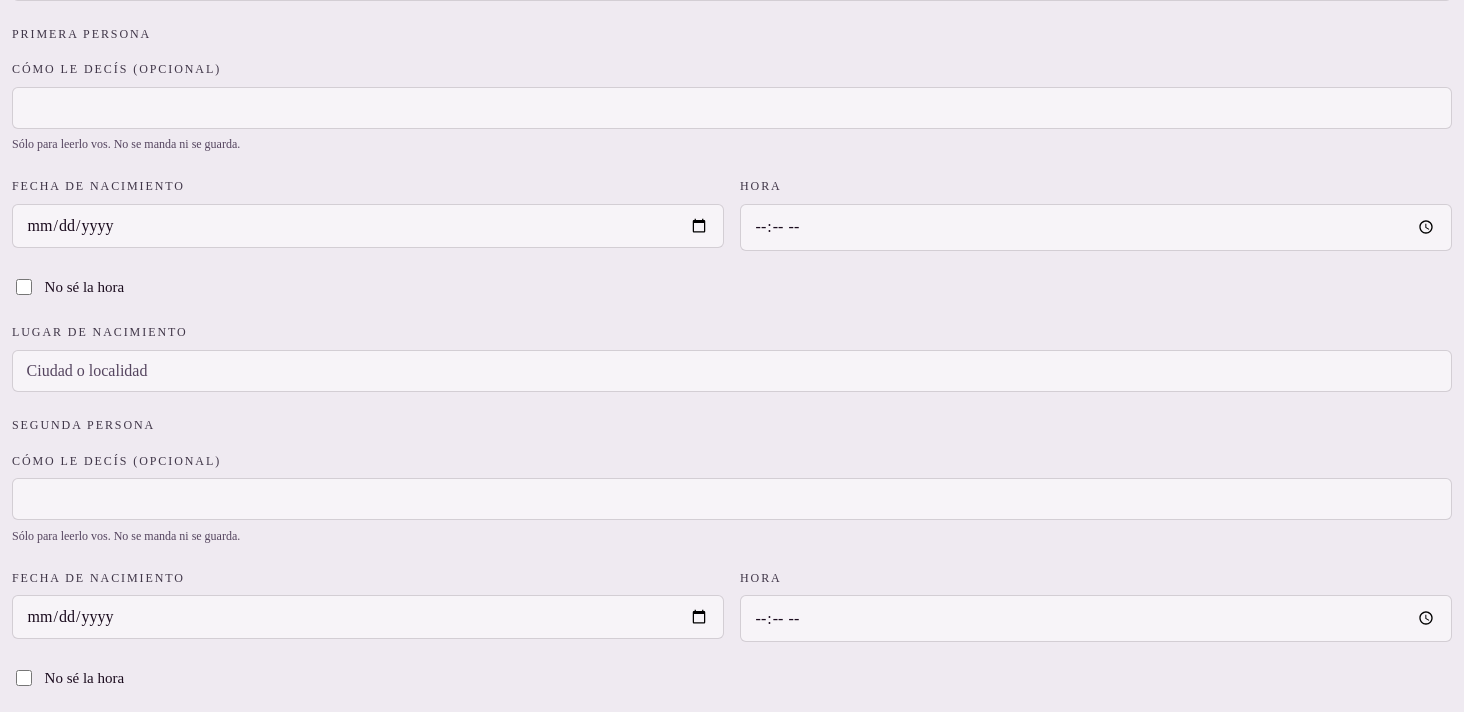
Test case: VinculoForm › misma persona: avisa y registra el motivo
In the date field labelled "Fecha de nacimiento" below "Primera persona": (368, 226) x1=12 y1=204 x2=724 y2=248, type "1976-05-31"
In the field labelled "Lugar de nacimiento": (732, 371) x1=12 y1=350 x2=1452 y2=392, type "rosario"
Wait 400 ms
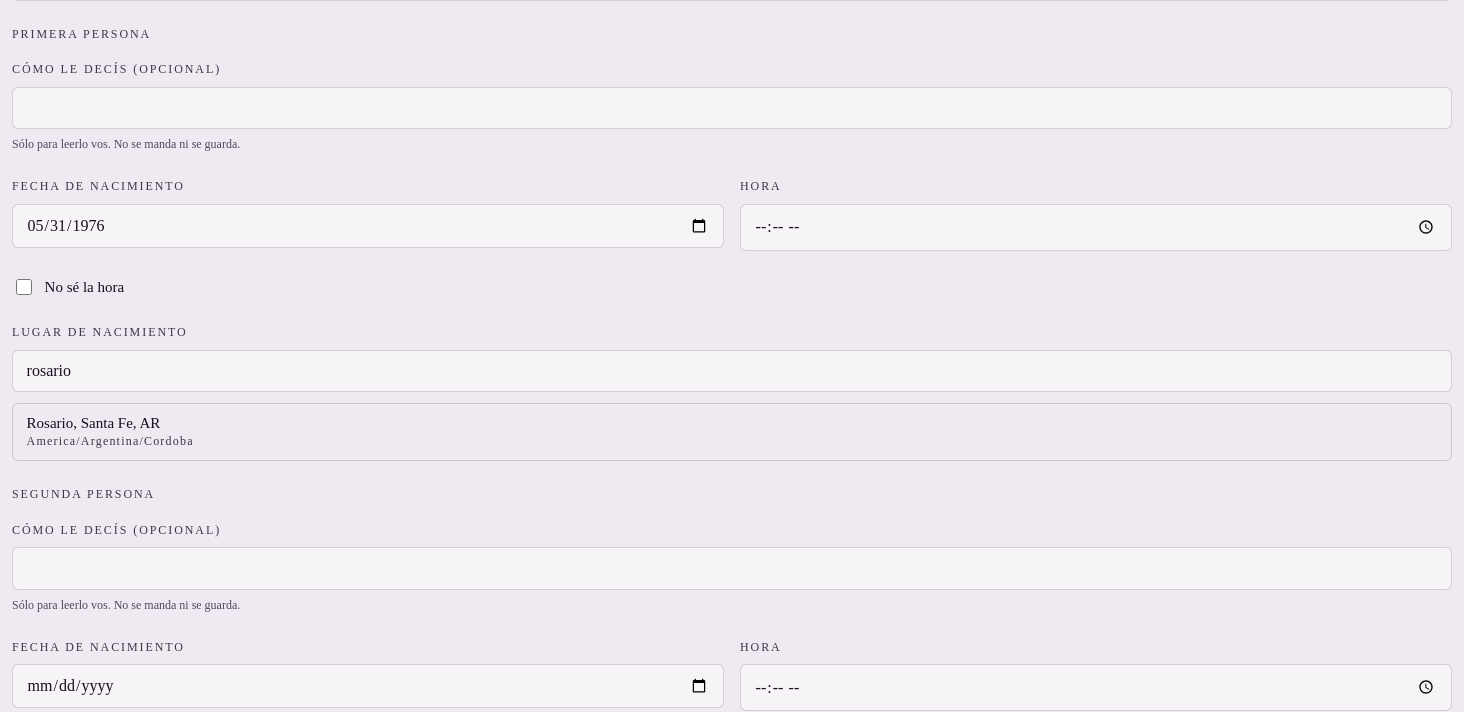
Click the button "Rosario, Santa Fe, AR America/Argentina/Cordoba": click(93, 423) x1=13 y1=404 x2=1451 y2=460
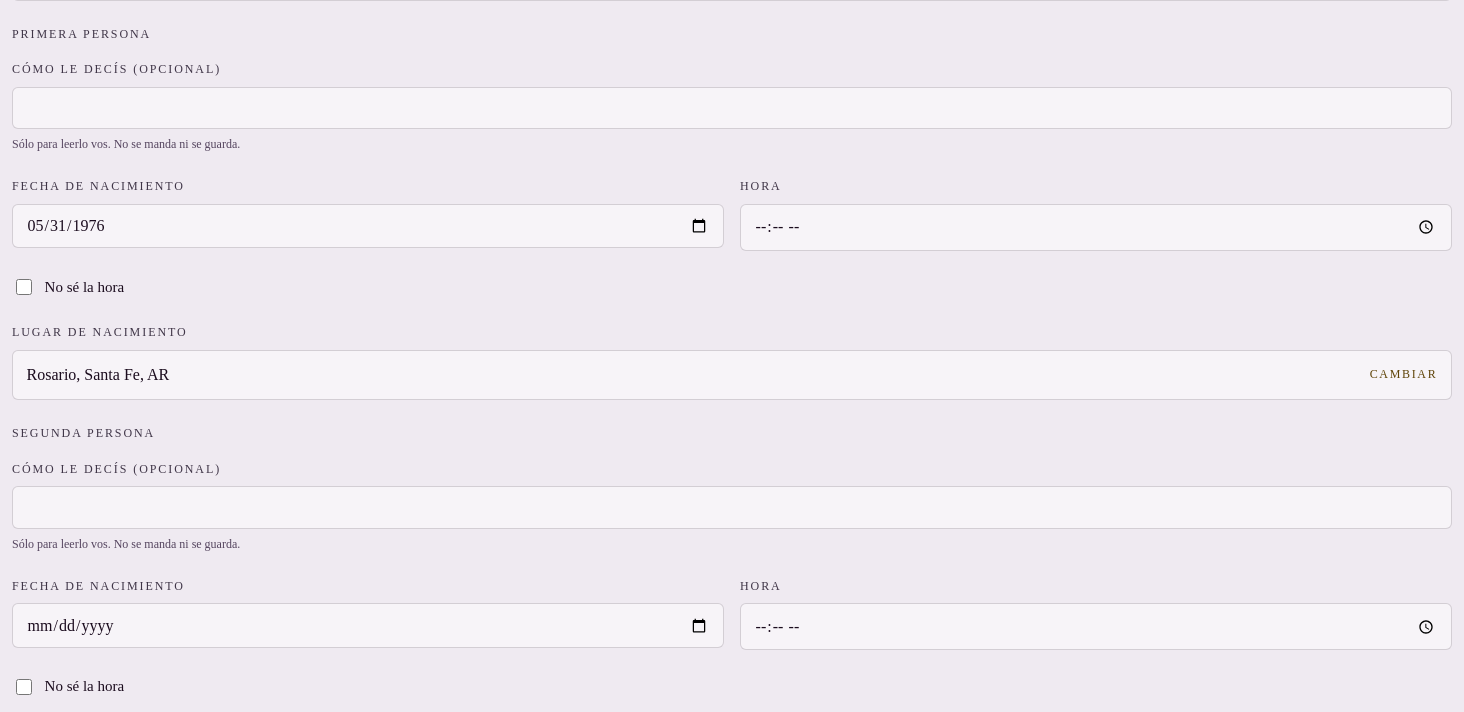
In the date field labelled "Fecha de nacimiento" below "Segunda persona": (368, 626) x1=12 y1=603 x2=724 y2=648, type "1976-05-31"
(page scrolled)
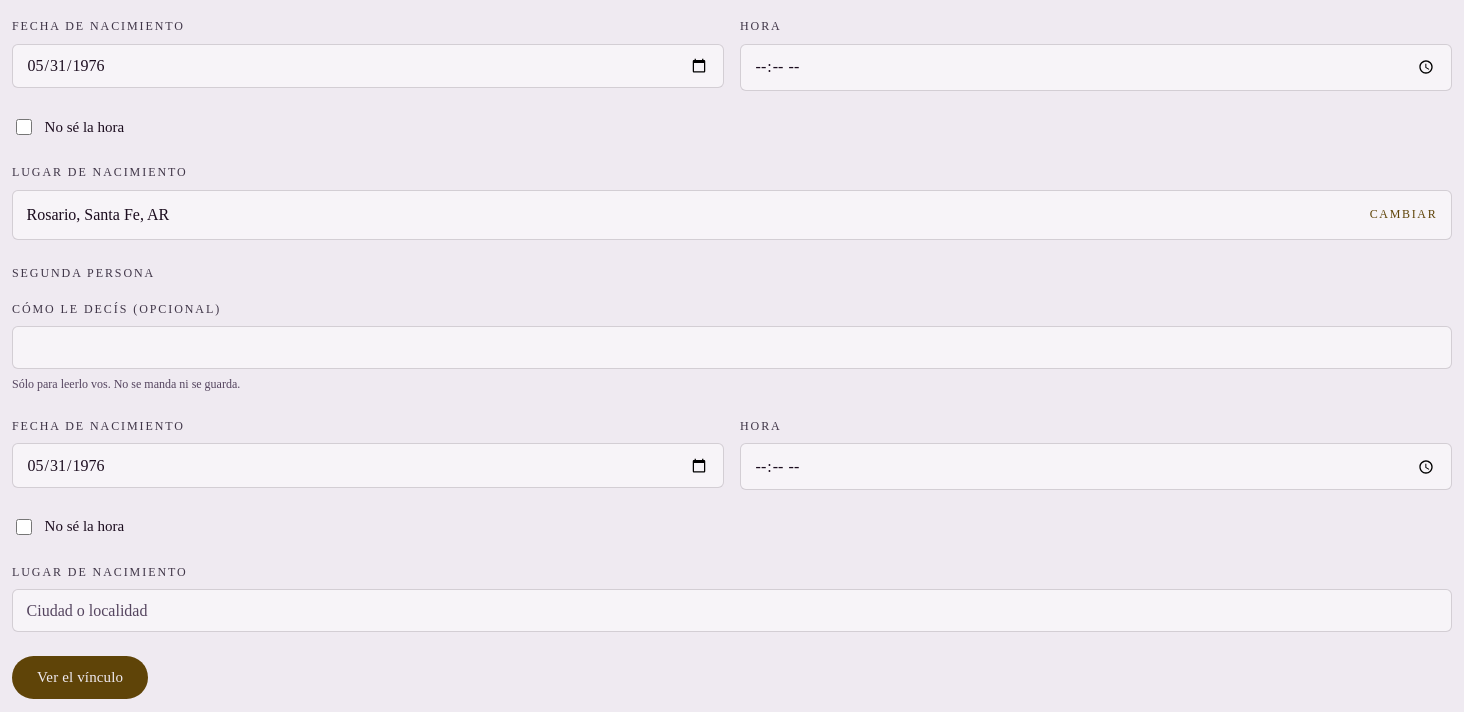
In the field labelled "Lugar de nacimiento": (732, 611) x1=12 y1=589 x2=1452 y2=632, type "rosario"
Wait 400 ms
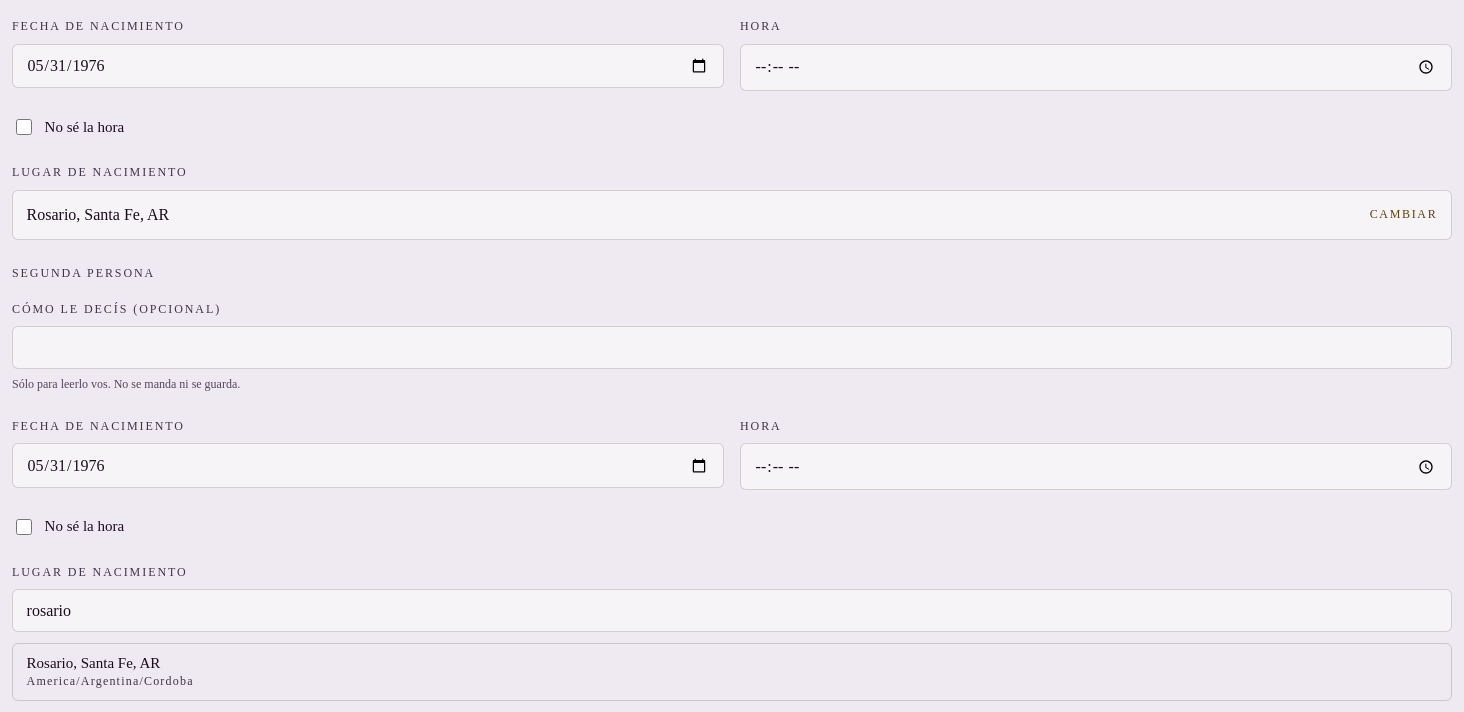
Click the button "Rosario, Santa Fe, AR America/Argentina/Cordoba": click(93, 663) x1=13 y1=644 x2=1451 y2=700
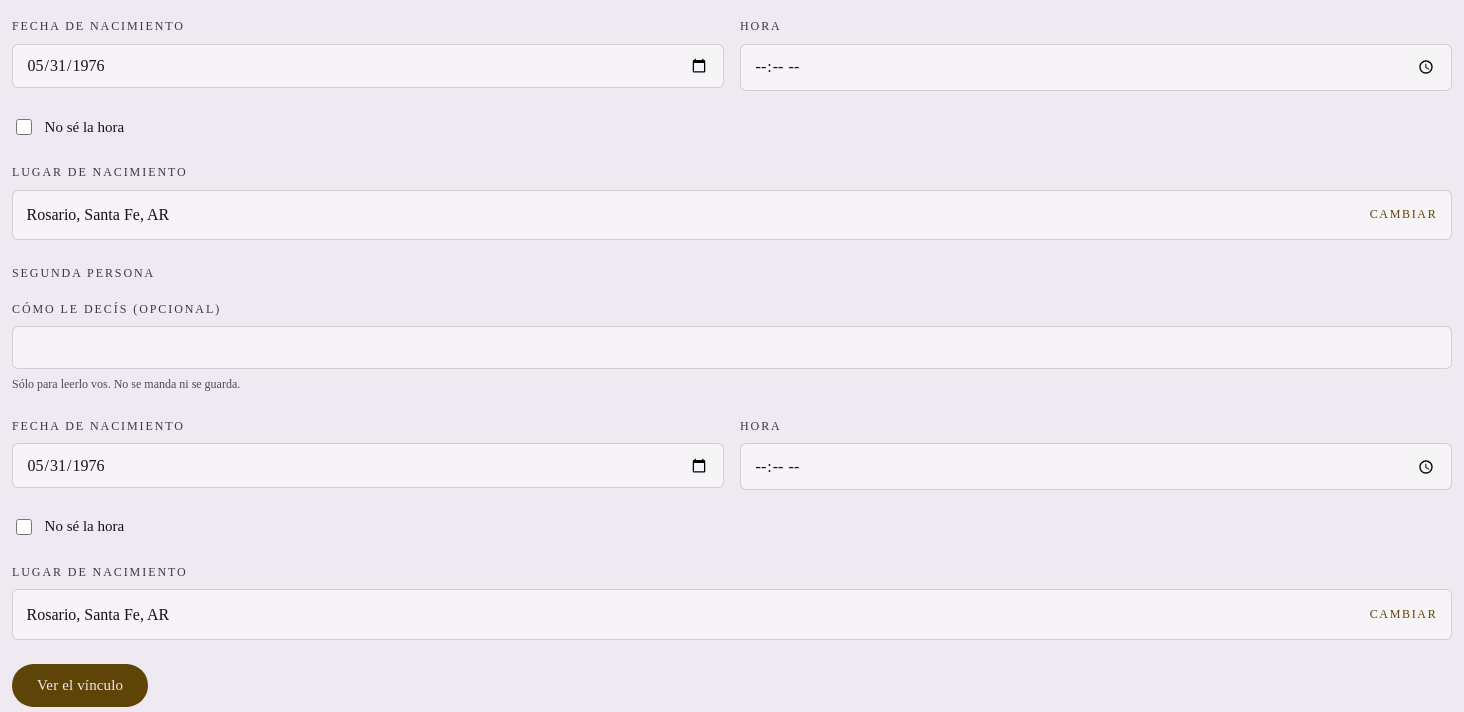
Click the button "Ver el vínculo": click(80, 686) x1=12 y1=664 x2=148 y2=707
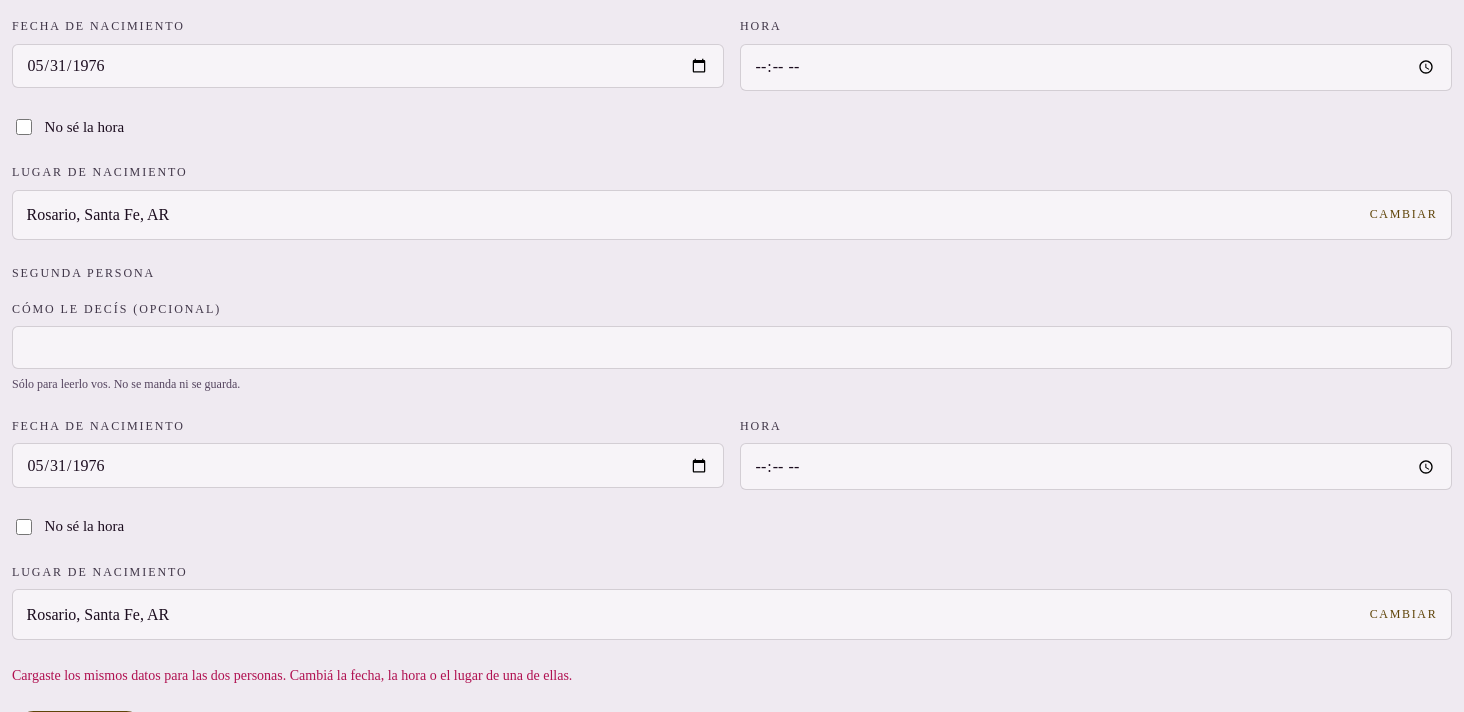
Check: the message shows "Cargaste los mismos datos para las dos personas. Cambiá la fecha, la hora o el lugar de una de ellas.", box x1=12 y1=668 x2=572 y2=683
